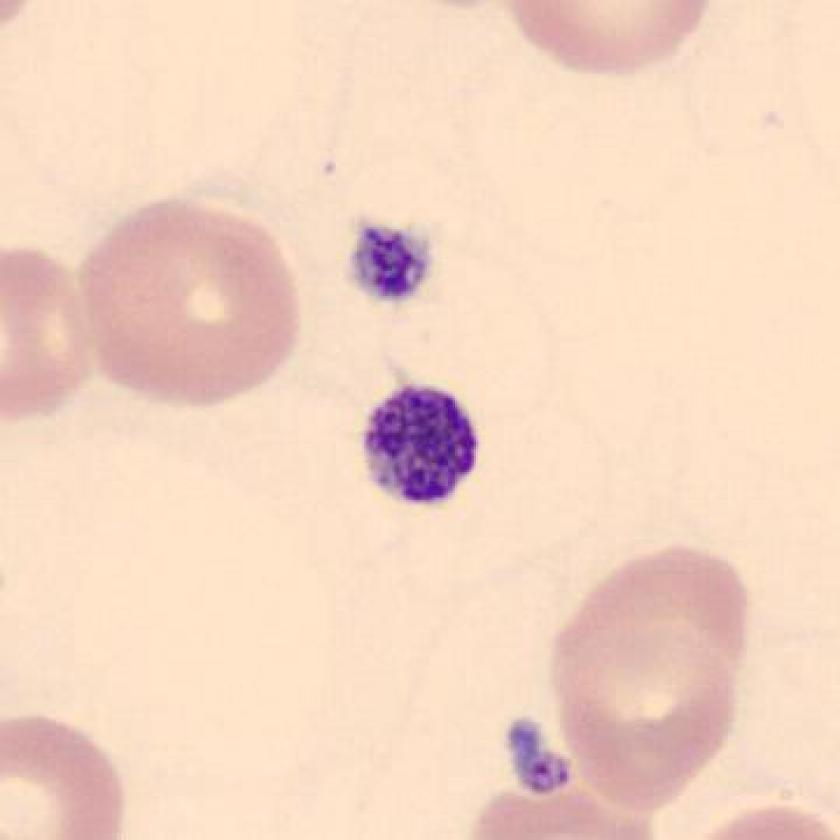platelets: (356, 374, 489, 517), (344, 207, 437, 309), (489, 707, 577, 806)
